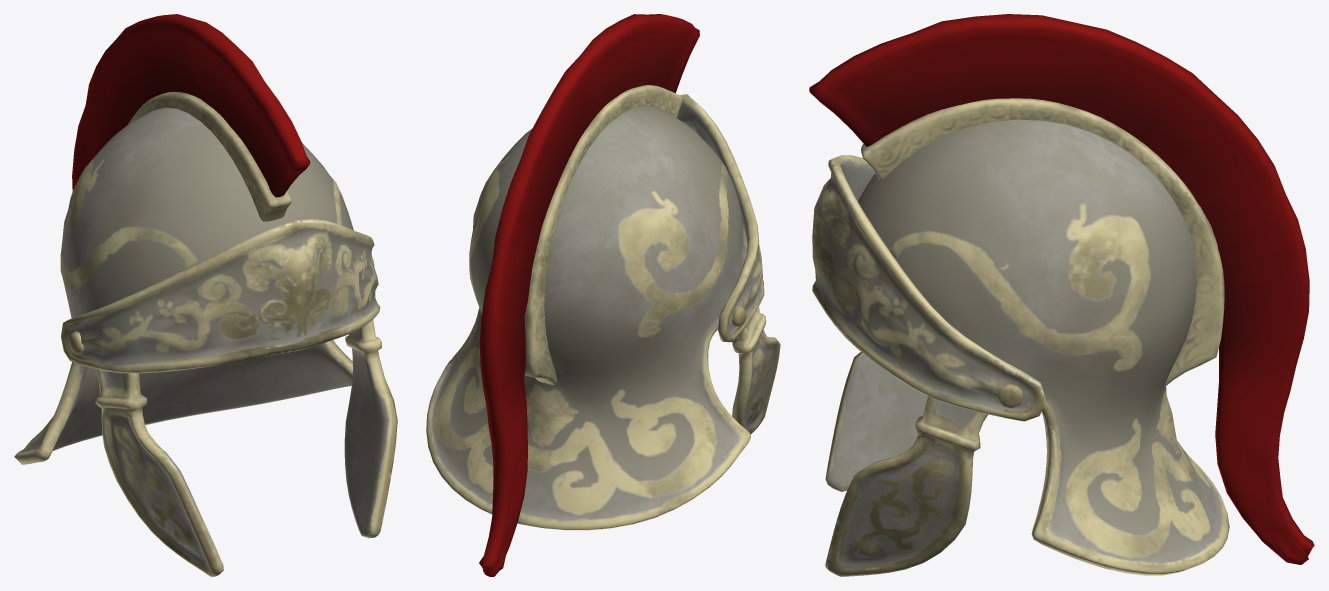
The picture shows the model from 3 angles, left to right: view 1: azimuth 30°, elevation 25°; view 2: azimuth 150°, elevation 25°; view 3: azimuth 270°, elevation 25°; orthographic projection. The views are drawn at different scales.
Visible parts, largest first — view 1: Casque_low, Visiere_low, Crin_low, Barre_low; view 2: Casque_low, Crin_low, Barre_low, Visiere_low; view 3: Casque_low, Crin_low, Visiere_low, Barre_low.
Boxes of the visible parts, left/top/right/bottom form: Casque_low: left=14, top=107, right=397, bottom=576; Visiere_low: left=61, top=219, right=379, bottom=373; Crin_low: left=72, top=14, right=310, bottom=197; Barre_low: left=128, top=91, right=291, bottom=221; Casque_low: left=426, top=106, right=780, bottom=530; Crin_low: left=479, top=14, right=699, bottom=576; Barre_low: left=524, top=85, right=682, bottom=384; Visiere_low: left=469, top=94, right=764, bottom=342; Casque_low: left=825, top=119, right=1229, bottom=576; Crin_low: left=809, top=14, right=1314, bottom=564; Visiere_low: left=812, top=155, right=1046, bottom=421; Barre_low: left=861, top=98, right=1224, bottom=386.
Bounding box in the file's own units: 1.39 × 2 × 1.68.
Materials: 1 (1 with a texture image).
